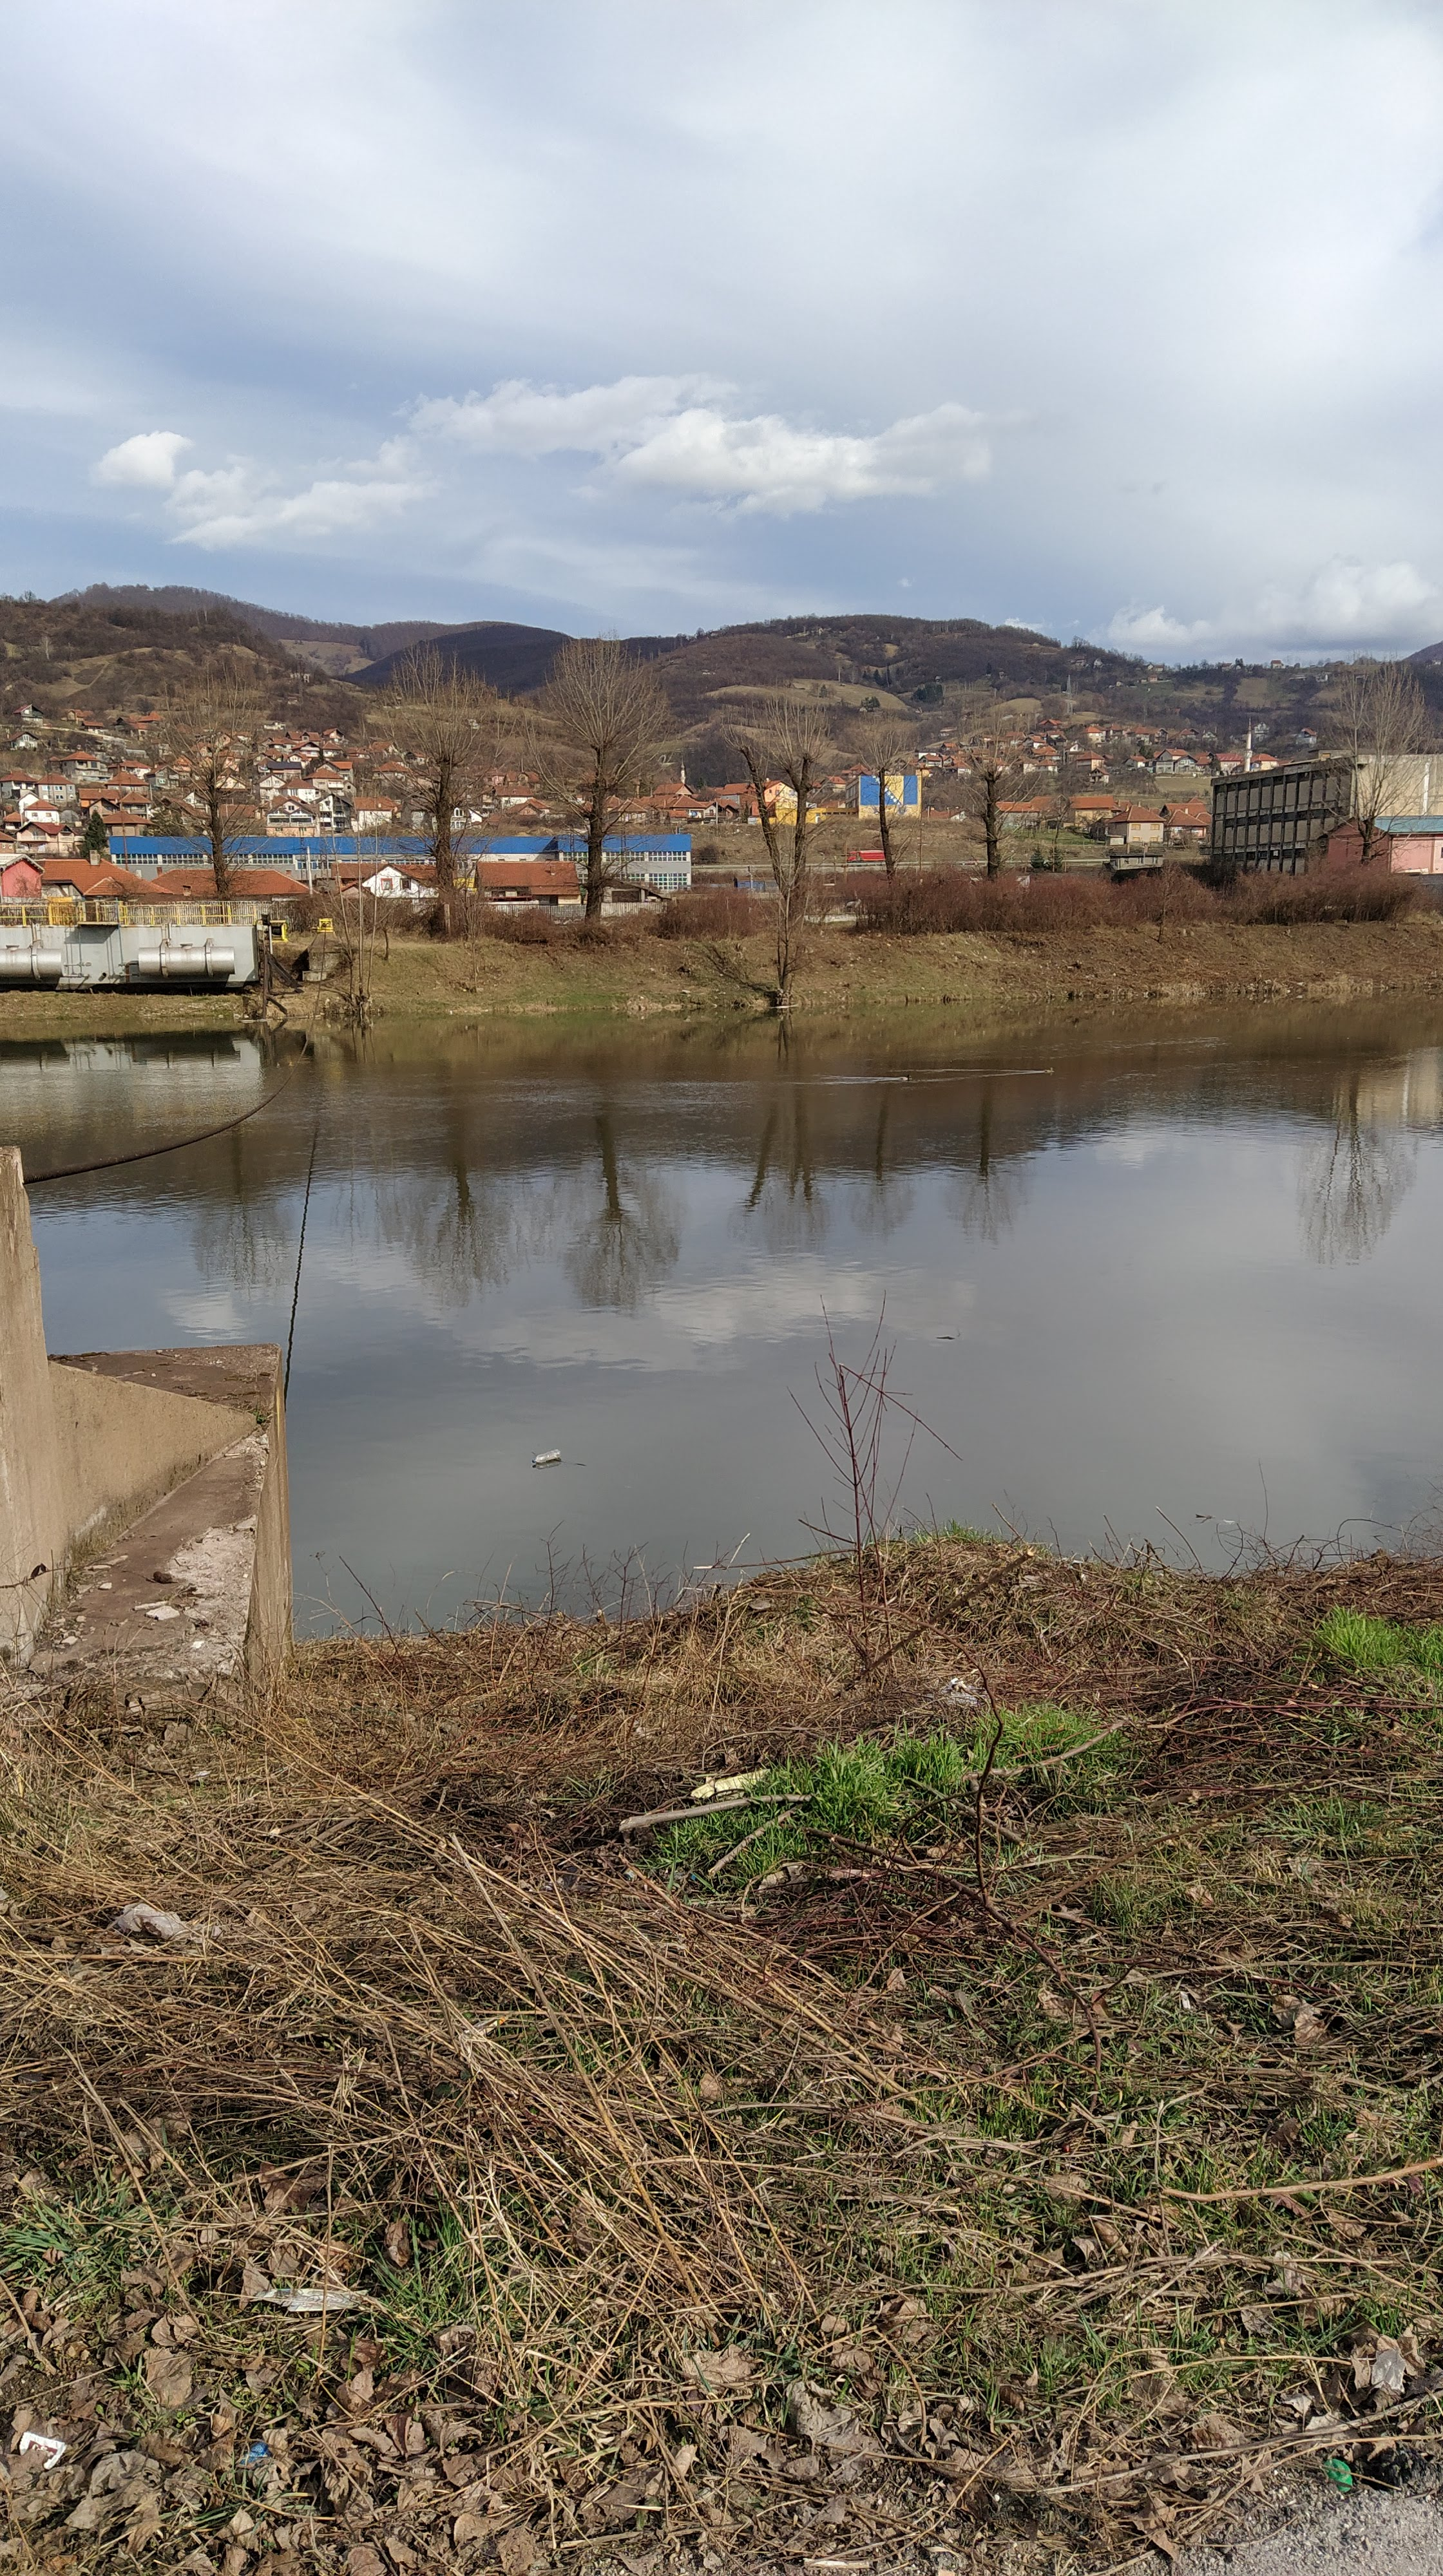Plastic Bottle: (531, 1449, 561, 1463)
